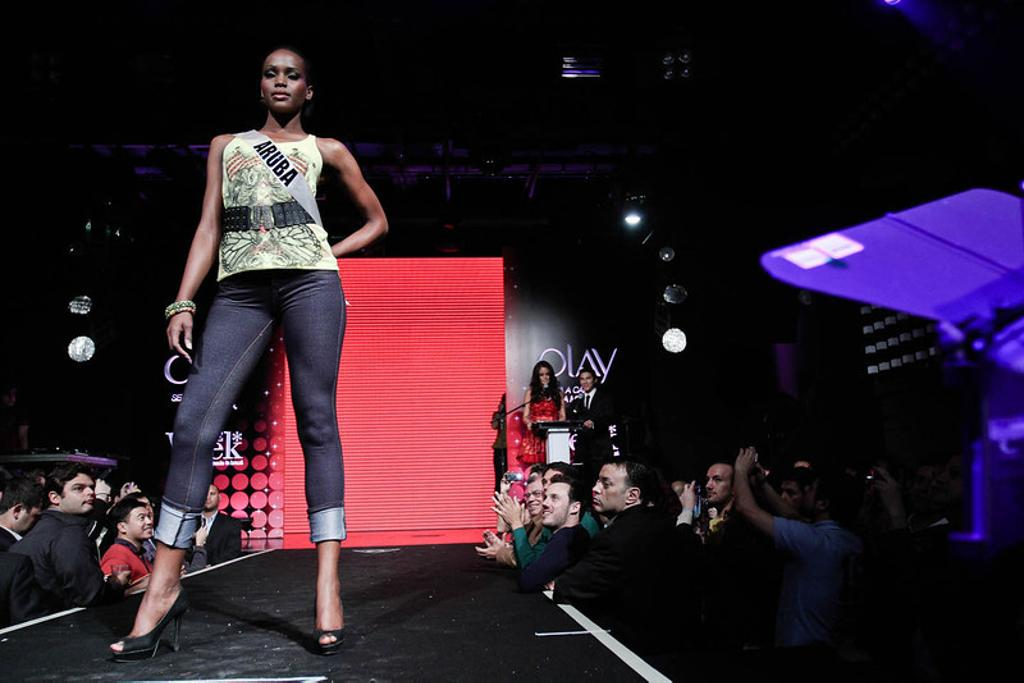face: (261, 52, 306, 112), (591, 463, 628, 512), (62, 471, 95, 514), (542, 483, 571, 526), (14, 496, 43, 533), (705, 464, 732, 502), (779, 481, 805, 518), (125, 507, 152, 540), (542, 471, 564, 502), (524, 485, 546, 514), (133, 497, 153, 526), (199, 485, 218, 509), (579, 372, 593, 391), (537, 367, 549, 384)
